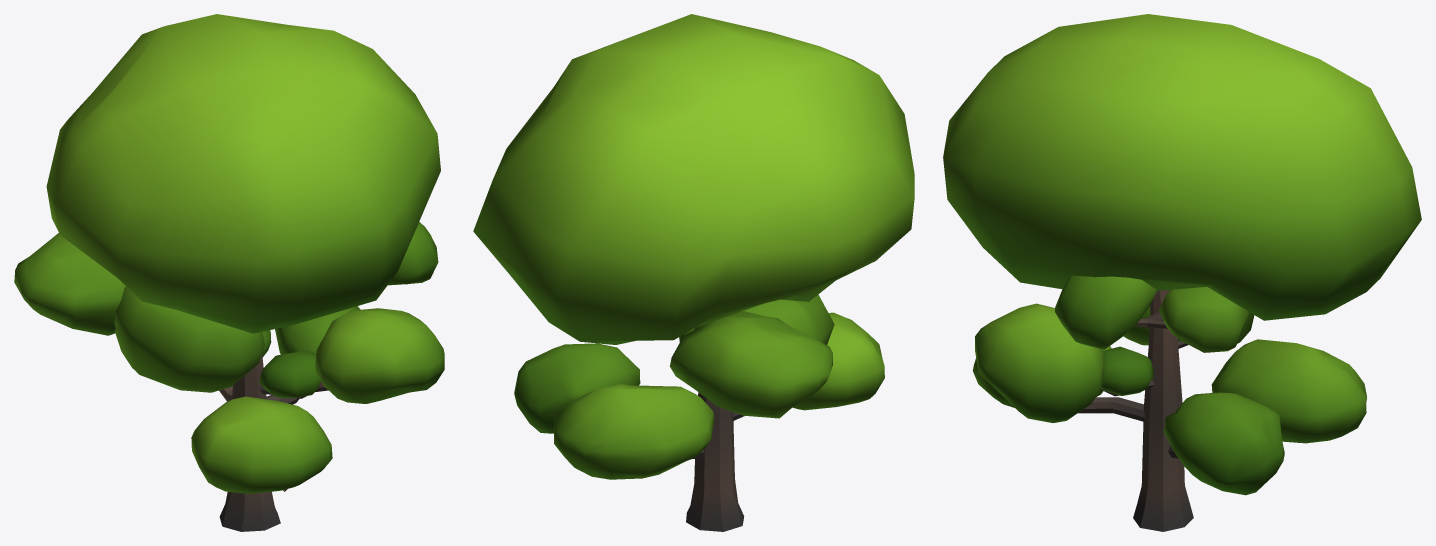
Rendered from OakTree.fbx.
3 renders of one model, left to right at view 1: azimuth 30°, elevation 25°; view 2: azimuth 150°, elevation 25°; view 3: azimuth 270°, elevation 25°, orthographic. The views are drawn at different scales.
Parts seen in each view (by area): view 1: OakTree; view 2: OakTree; view 3: OakTree.
Part boxes in pixels (left/top/right/bottom): OakTree: left=14, top=14, right=444, bottom=531; OakTree: left=473, top=14, right=914, bottom=531; OakTree: left=943, top=14, right=1421, bottom=531.
Size of the model in its own units: 275 by 359 by 325.
